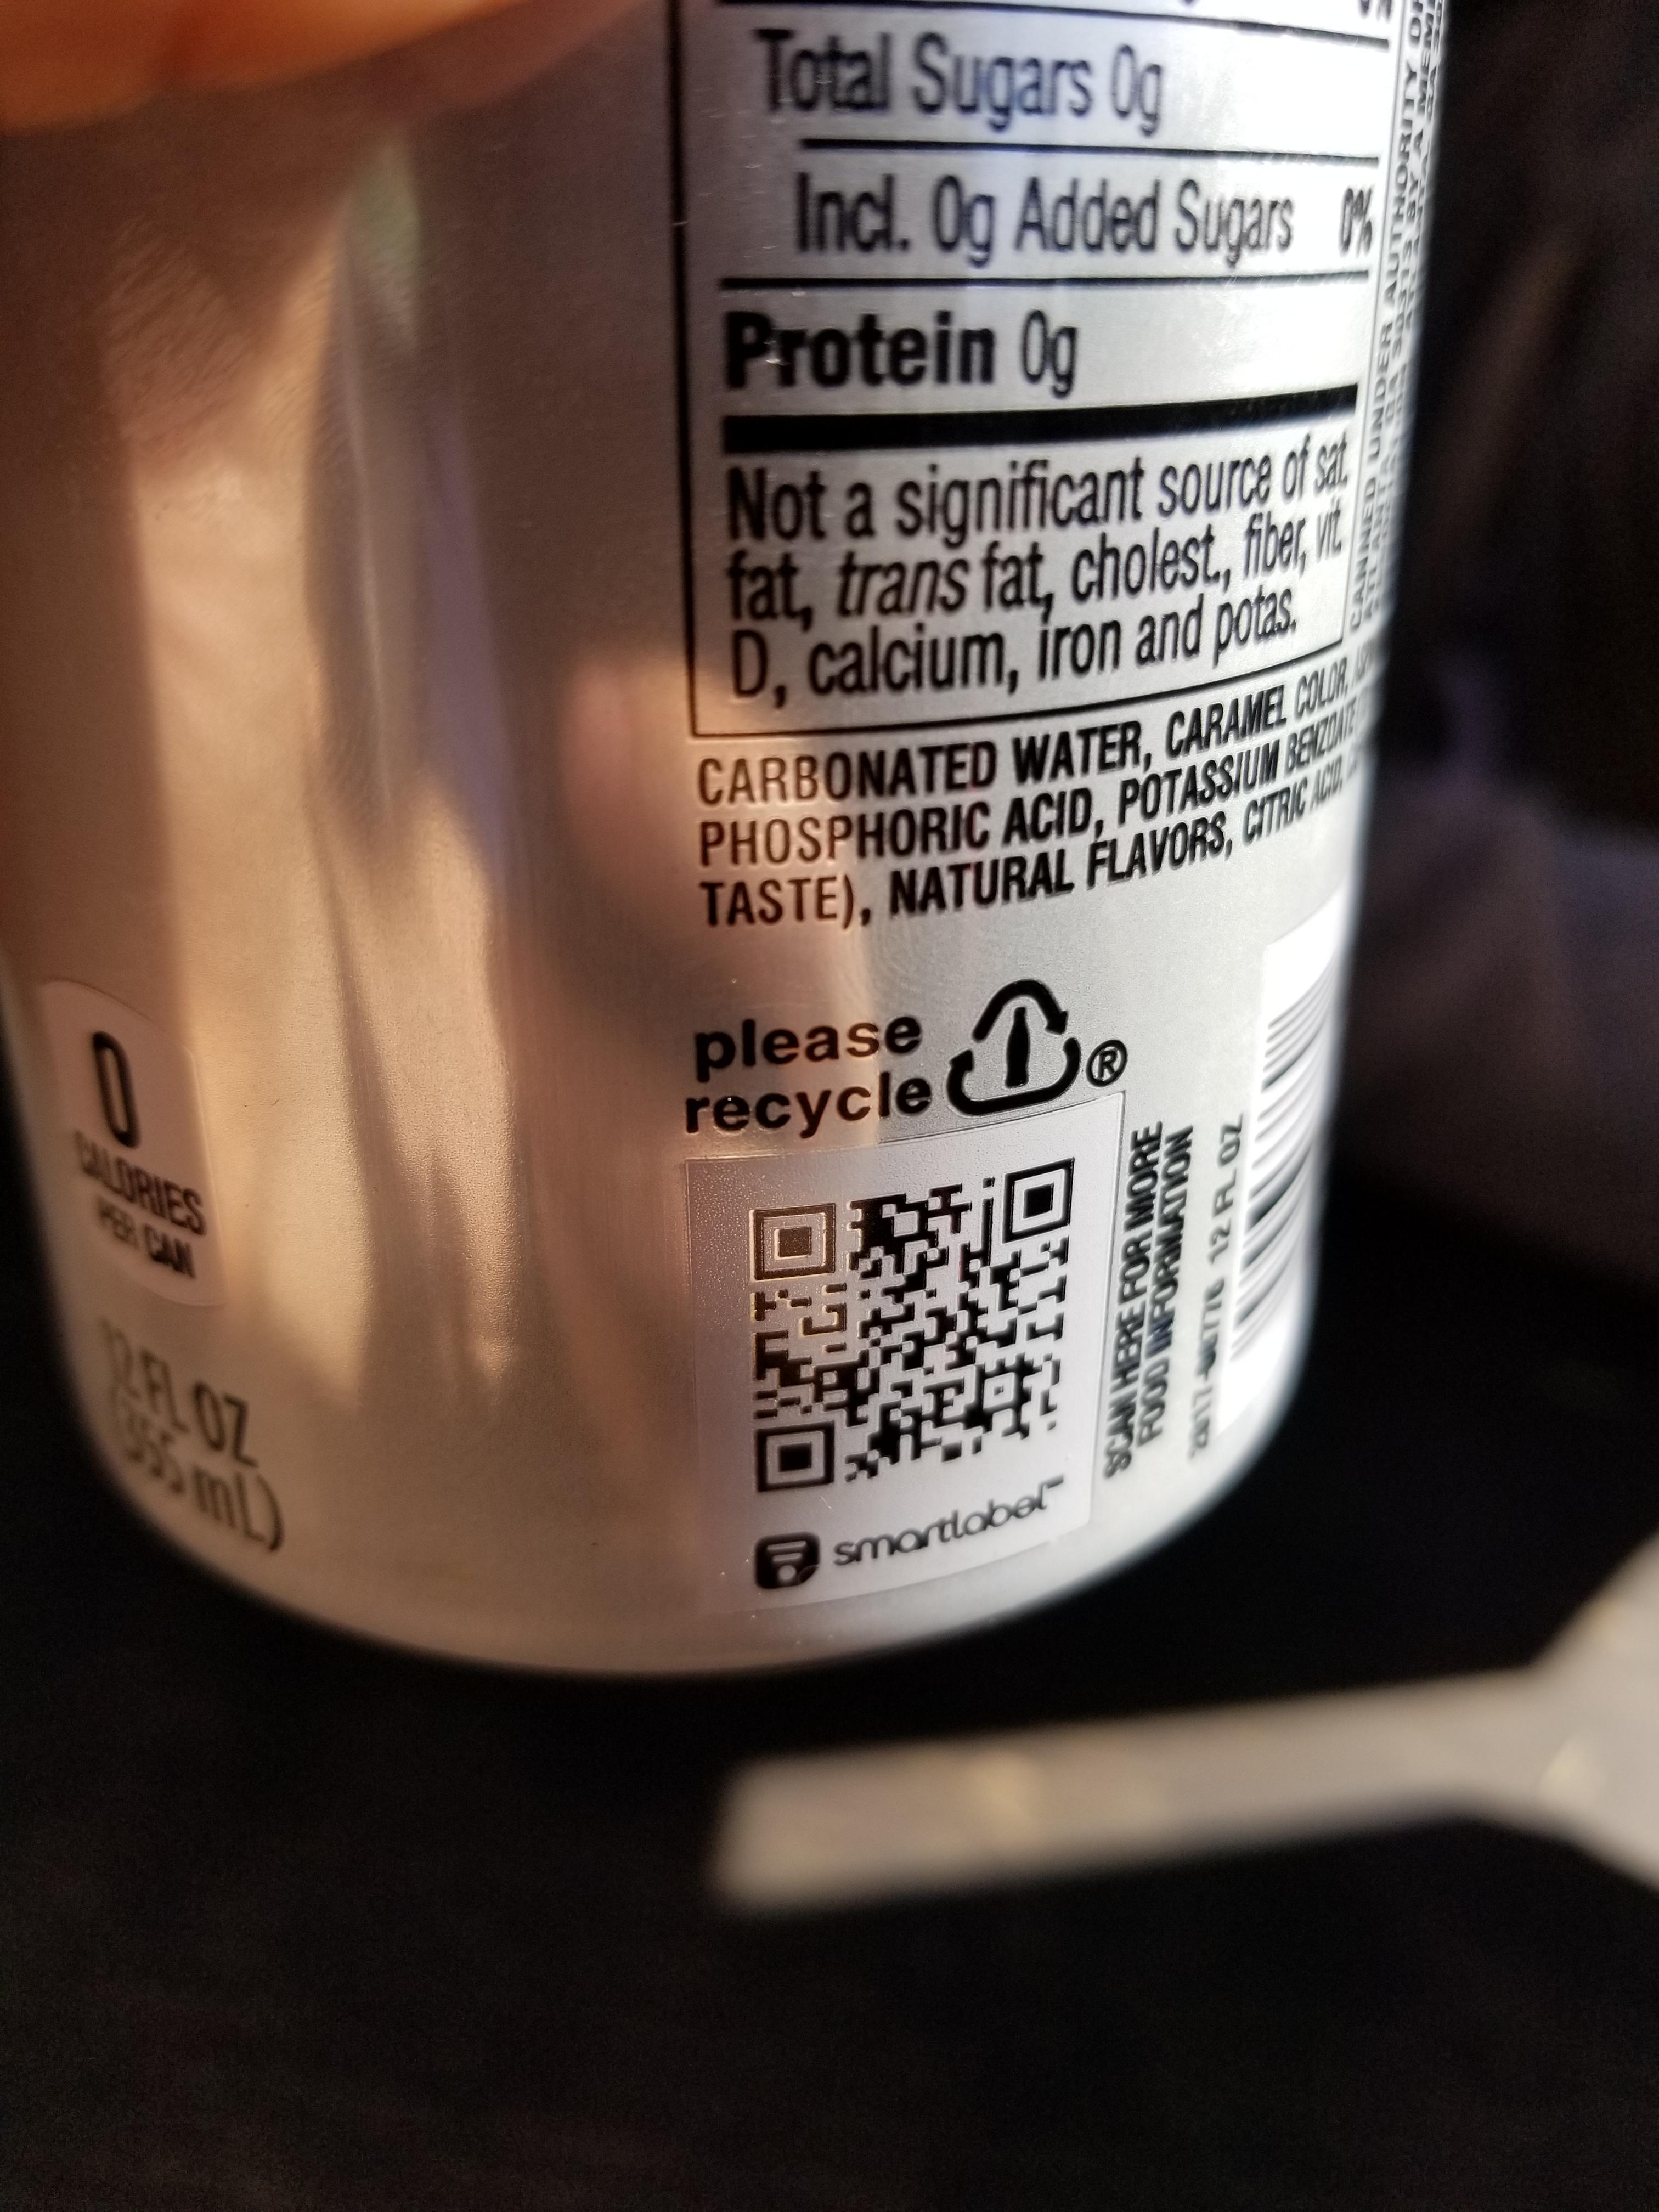QR_CODE: (714, 1146, 1107, 1508)
